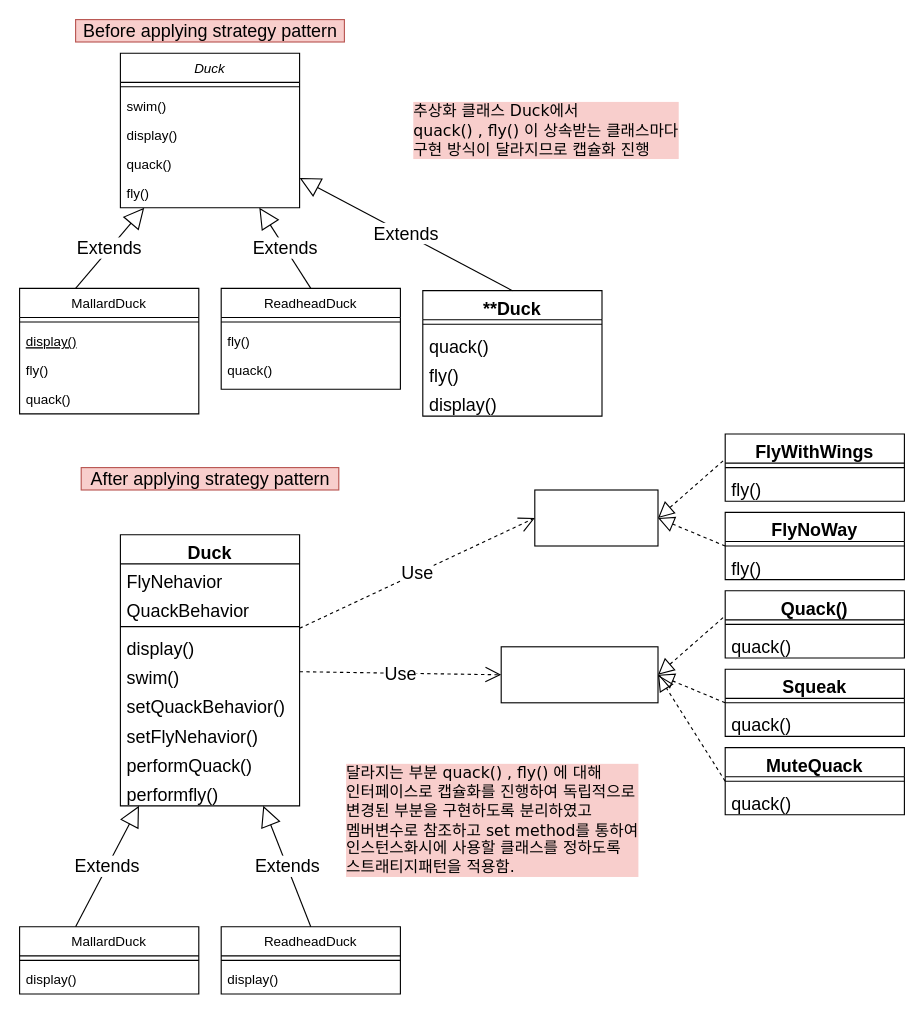
Some shapes in this 924 by 1017 pixel diagram are drawn without their labels. The centre of each missing label's shape, as x and y in pixels:
«interface» FlyBehavior: (596,517)
«interface» QuackBehavior: (579,674)
